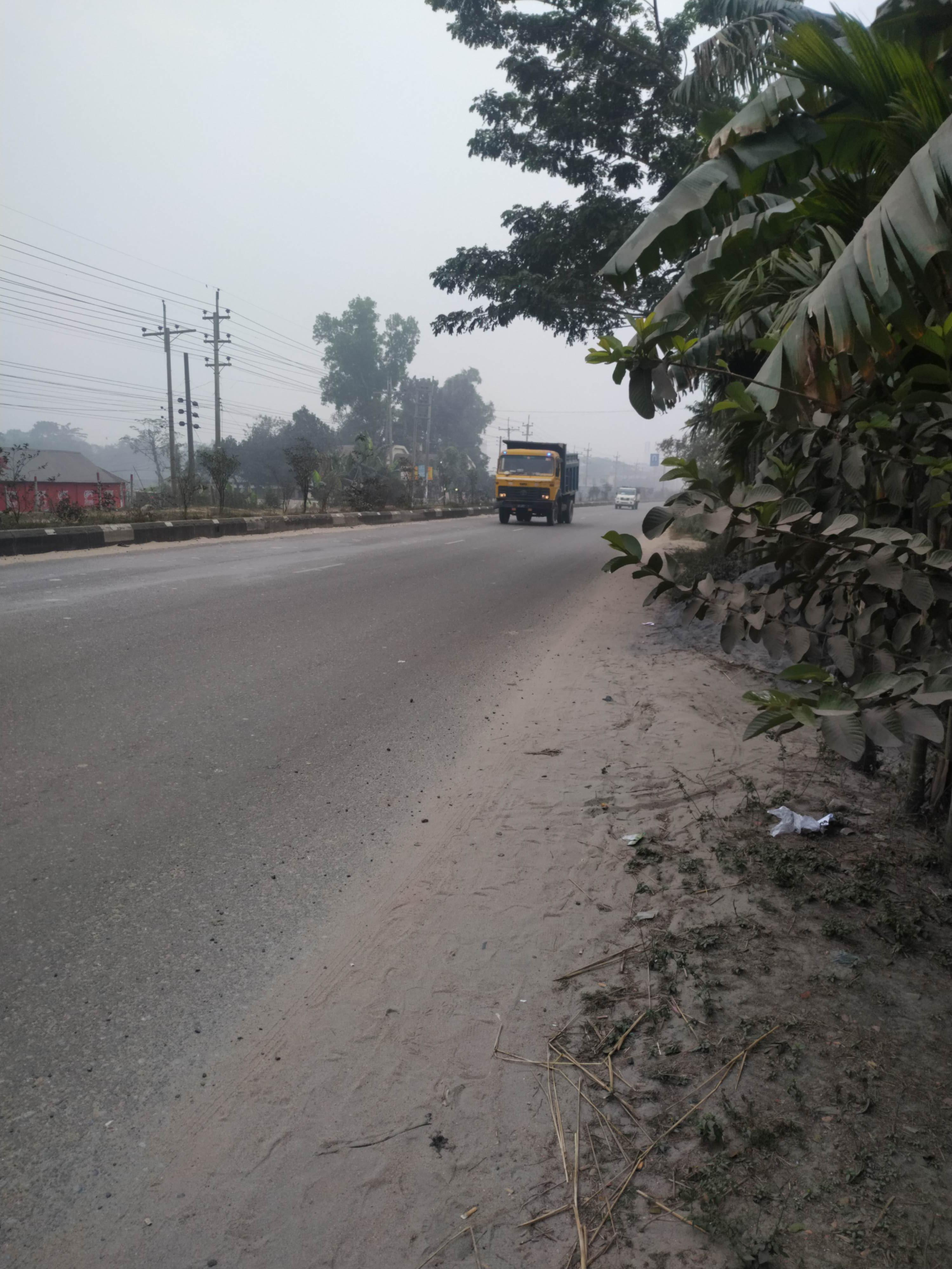Truck: (464, 424, 599, 559), (607, 478, 652, 527)
